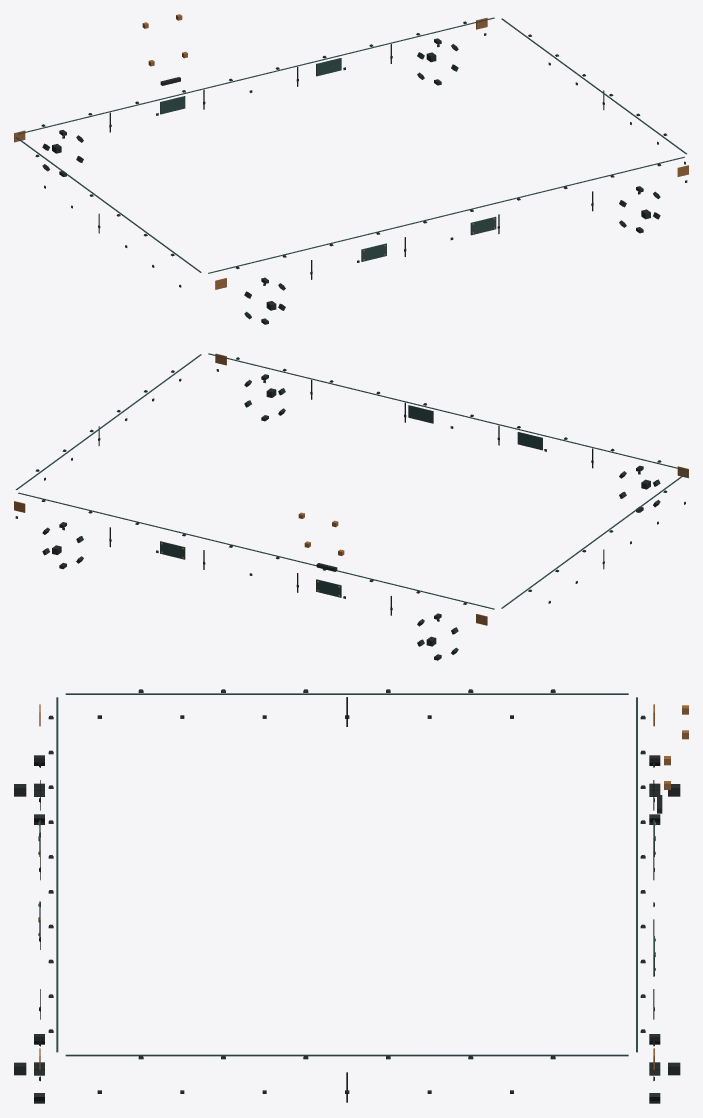
File: moss_hover_barge_detail1.glb
3 renders of one model, top to bottom at view 1: azimuth 30°, elevation 25°; view 2: azimuth 150°, elevation 25°; view 3: azimuth 270°, elevation 25°, orthographic. The views are drawn at different scales.
Visible parts, largest first — view 1: Detail1; view 2: Detail1; view 3: Detail1.
Part boxes in pixels (x1,y1,x2,y2): Detail1: (14,14,688,324); Detail1: (14,353,688,660); Detail1: (14,689,688,1103).
Size of the model in its own units: 64.84 by 14.91 by 49.13.
